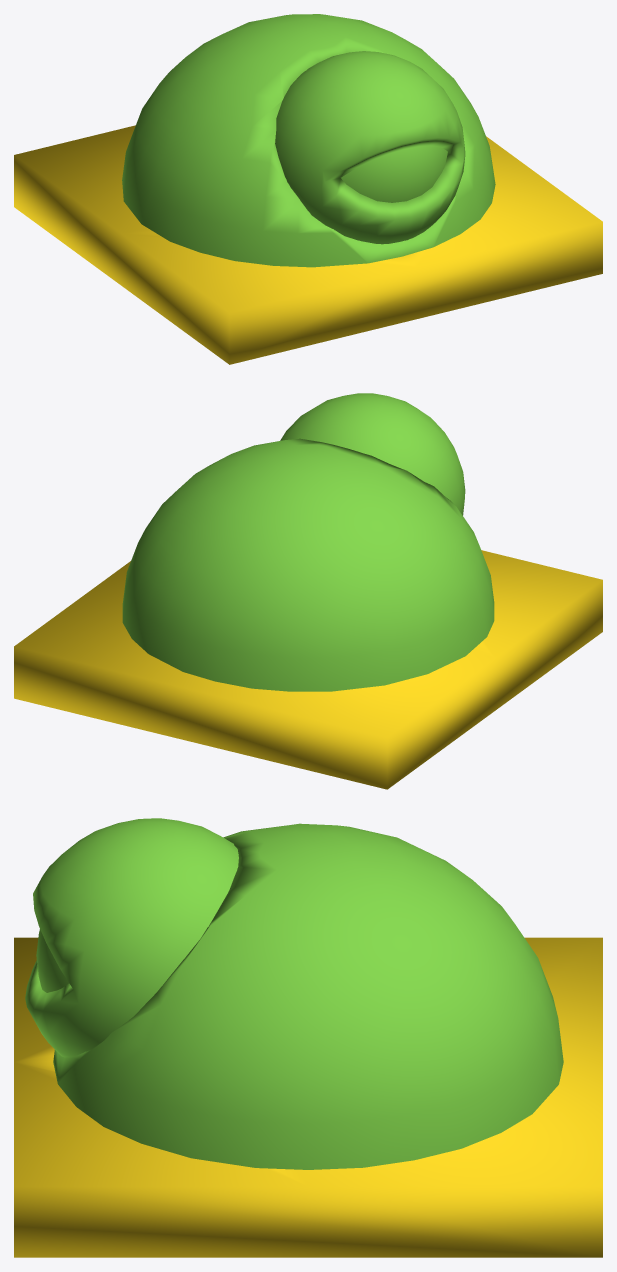
File: baby_2.glb
3 views of the same model, one above another, from view 1: azimuth 30°, elevation 25°; view 2: azimuth 150°, elevation 25°; view 3: azimuth 270°, elevation 25° (orthographic). The views are drawn at different scales.
Visible parts, largest first — view 1: figura, basetta; view 2: figura, basetta; view 3: figura, basetta.
Part boxes in pixels (x1,y1,x2,y2): figura: (122,14,495,267); basetta: (14,125,602,364); figura: (122,393,494,691); basetta: (14,550,602,789); figura: (25,818,563,1169); basetta: (14,937,602,1257).
Bounding box in the file's own units: 0.015 × 0.0085 × 0.015.
